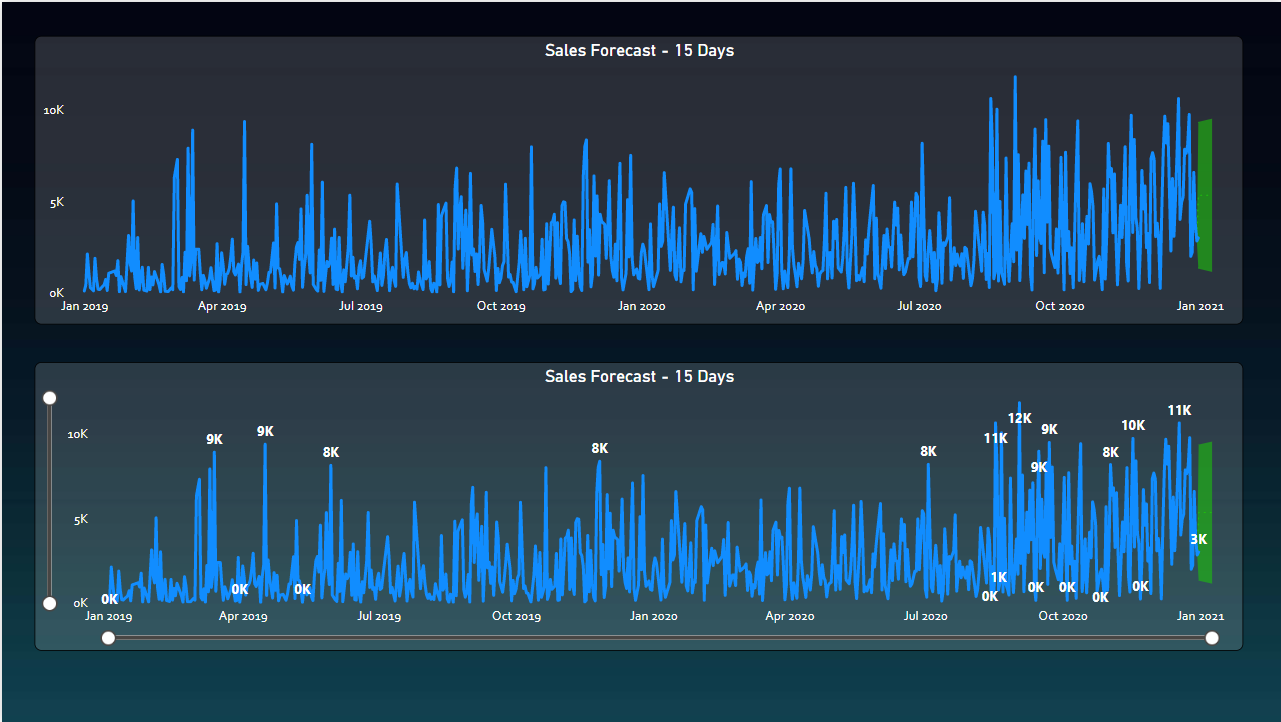

The page's visual inventory and layout, read from the dashboard file:
{"tool":"powerbi","page":{"name":"Forcasting","canvas":[1280,720],"ordinal":1},"visuals":[{"type":"lineChart","title":"Sales Forecast - 15 Days","fields":{"Y":["Sum(SuperStore_Sales_Dataset.Sales)"],"Category":["SuperStore_Sales_Dataset.Order Date"]},"box":[32.5,33.8,1208.8,288.8],"z":0},{"type":"lineChart","title":"Sales Forecast - 15 Days","fields":{"Y":["Sum(SuperStore_Sales_Dataset.Sales)"],"Category":["SuperStore_Sales_Dataset.Order Date"]},"box":[32.5,360,1208.8,288.8],"z":1000}]}

Visuals, with their boxes in screenshot pixels (x1, y1, x2, y2), scaled from the page's 1280x720 canvas onto the 1281x722 screenshot:
"Sales Forecast - 15 Days" lineChart: crop(33, 34, 1242, 323)
"Sales Forecast - 15 Days" lineChart: crop(33, 361, 1242, 651)
